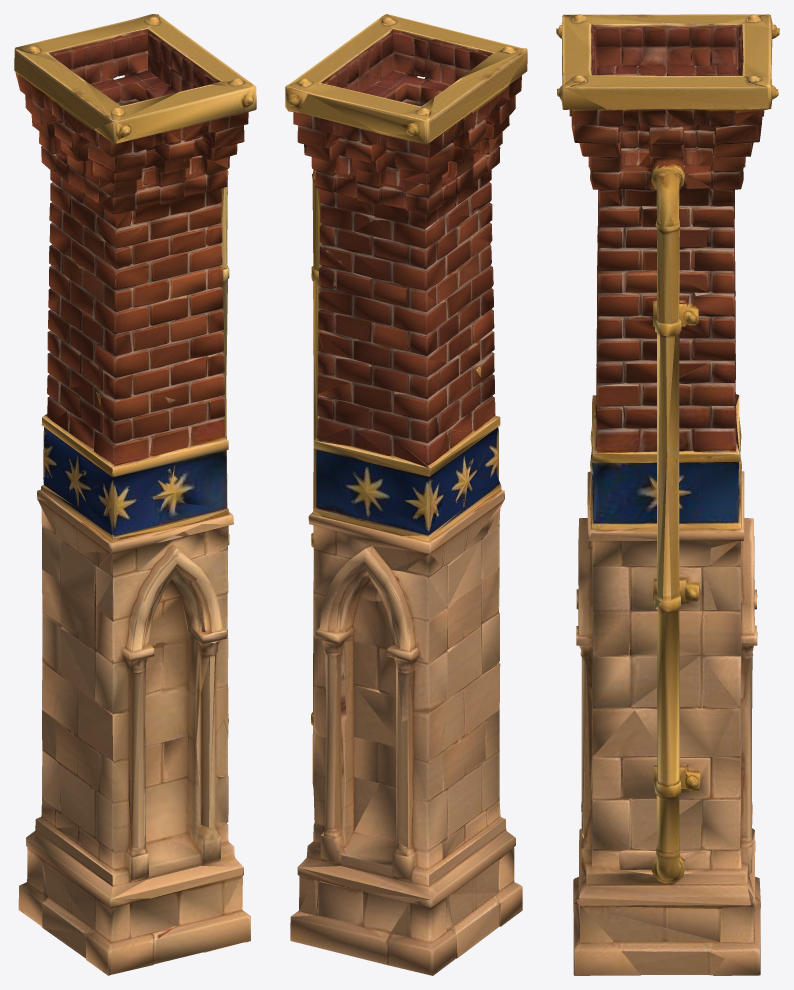
File: battery-stack.glb
3 renders of one model, left to right at view 1: azimuth 30°, elevation 25°; view 2: azimuth 150°, elevation 25°; view 3: azimuth 270°, elevation 25°, orthographic. The views are drawn at different scales.
Parts seen in each view (by area): view 1: Mesh_0; view 2: Mesh_0; view 3: Mesh_0.
Part boxes in pixels (x1=…): Mesh_0: x1=14, y1=14, x2=256, y2=975; Mesh_0: x1=285, y1=14, x2=527, y2=975; Mesh_0: x1=556, y1=14, x2=779, y2=975.
Size of the model in its own units: 4.42 by 22.03 by 4.99.
1 material, 1 textured.
